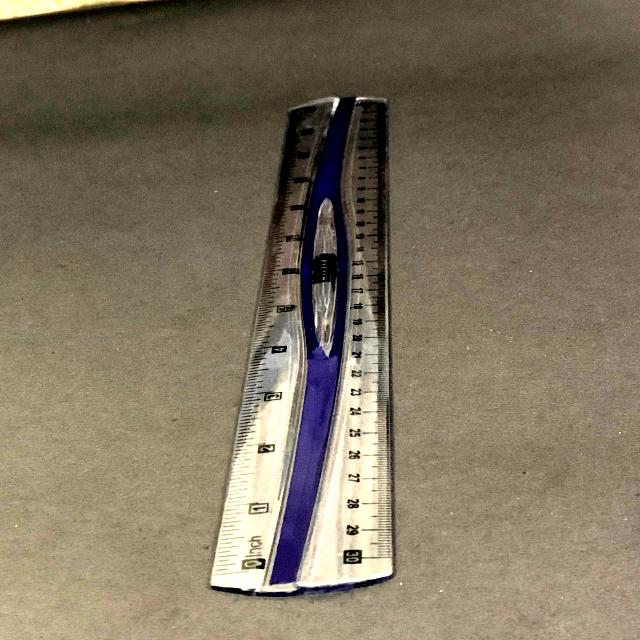Scale: (182, 78, 429, 605)
